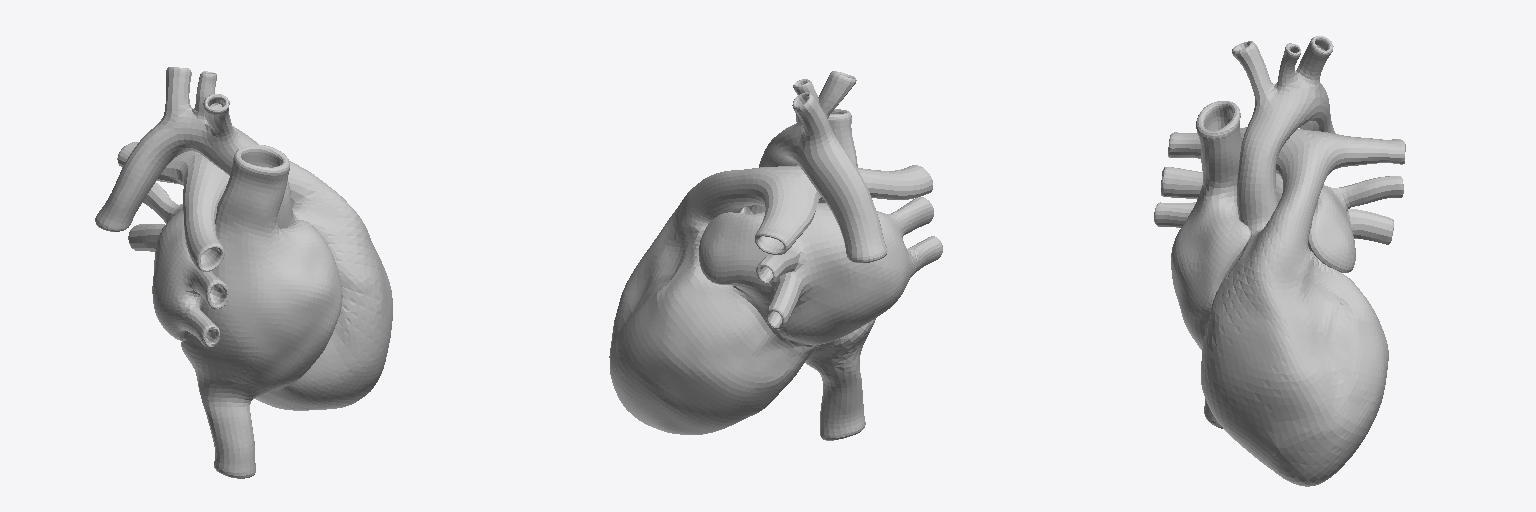
3 renders of one model, left to right at view 1: azimuth 30°, elevation 25°; view 2: azimuth 150°, elevation 25°; view 3: azimuth 270°, elevation 25°, orthographic.
Visible parts, largest first — view 1: HEART_PRO; view 2: HEART_PRO; view 3: HEART_PRO.
Part boxes in pixels (left/top/right/bottom): HEART_PRO: left=95, top=67, right=392, bottom=478; HEART_PRO: left=609, top=71, right=942, bottom=440; HEART_PRO: left=1154, top=36, right=1405, bottom=486.
Bounding box in the file's own units: 616 × 815 × 489.